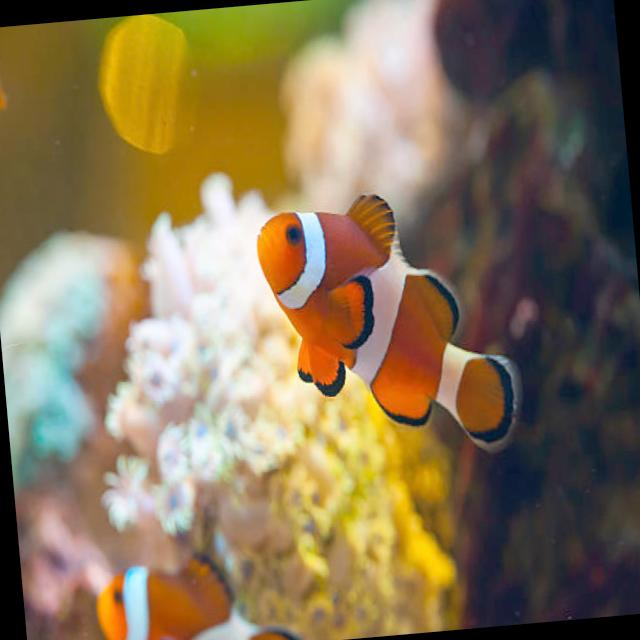ClownFish: (252, 174, 520, 473), (86, 535, 305, 640)
